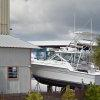Boat: (31, 48, 97, 92)
